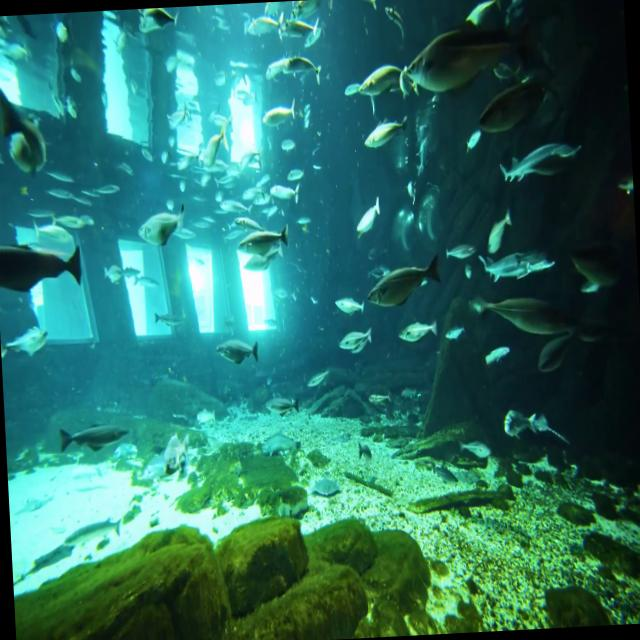fish: (397, 16, 539, 96), (497, 134, 586, 186), (0, 242, 87, 295), (367, 250, 444, 306), (480, 246, 560, 284), (136, 203, 188, 254), (348, 62, 401, 103), (362, 109, 411, 150), (240, 227, 290, 259), (216, 339, 260, 369), (399, 319, 441, 349)
